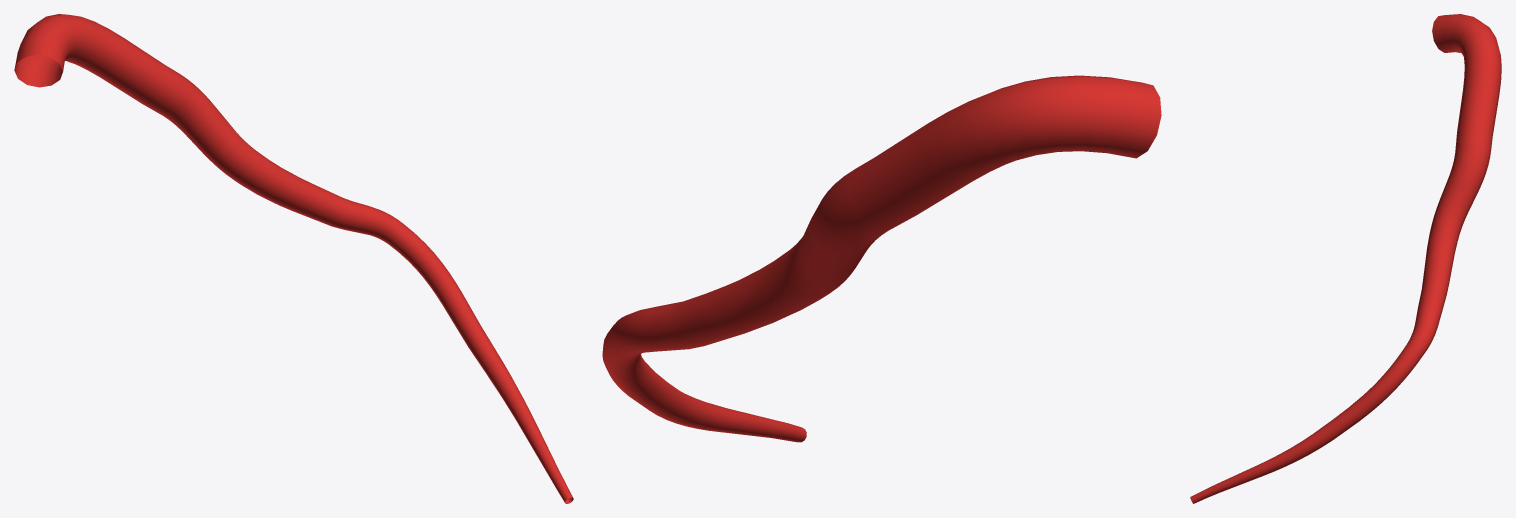
File: circulatorio-superior-lateral-genicular-artery-l.glb
3 views of the same model, side by side, from view 1: azimuth 30°, elevation 25°; view 2: azimuth 150°, elevation 25°; view 3: azimuth 270°, elevation 25° (orthographic). The views are drawn at different scales.
Visible parts, largest first — view 1: Superior lateral genicular artery.l; view 2: Superior lateral genicular artery.l; view 3: Superior lateral genicular artery.l.
Boxes of the visible parts, x1=… form: Superior lateral genicular artery.l: x1=14, y1=14, x2=573, y2=503; Superior lateral genicular artery.l: x1=602, y1=75, x2=1161, y2=442; Superior lateral genicular artery.l: x1=1190, y1=14, x2=1501, y2=503.
Bounding box in the file's own units: 0.0475 × 0.0497 × 0.0401.
